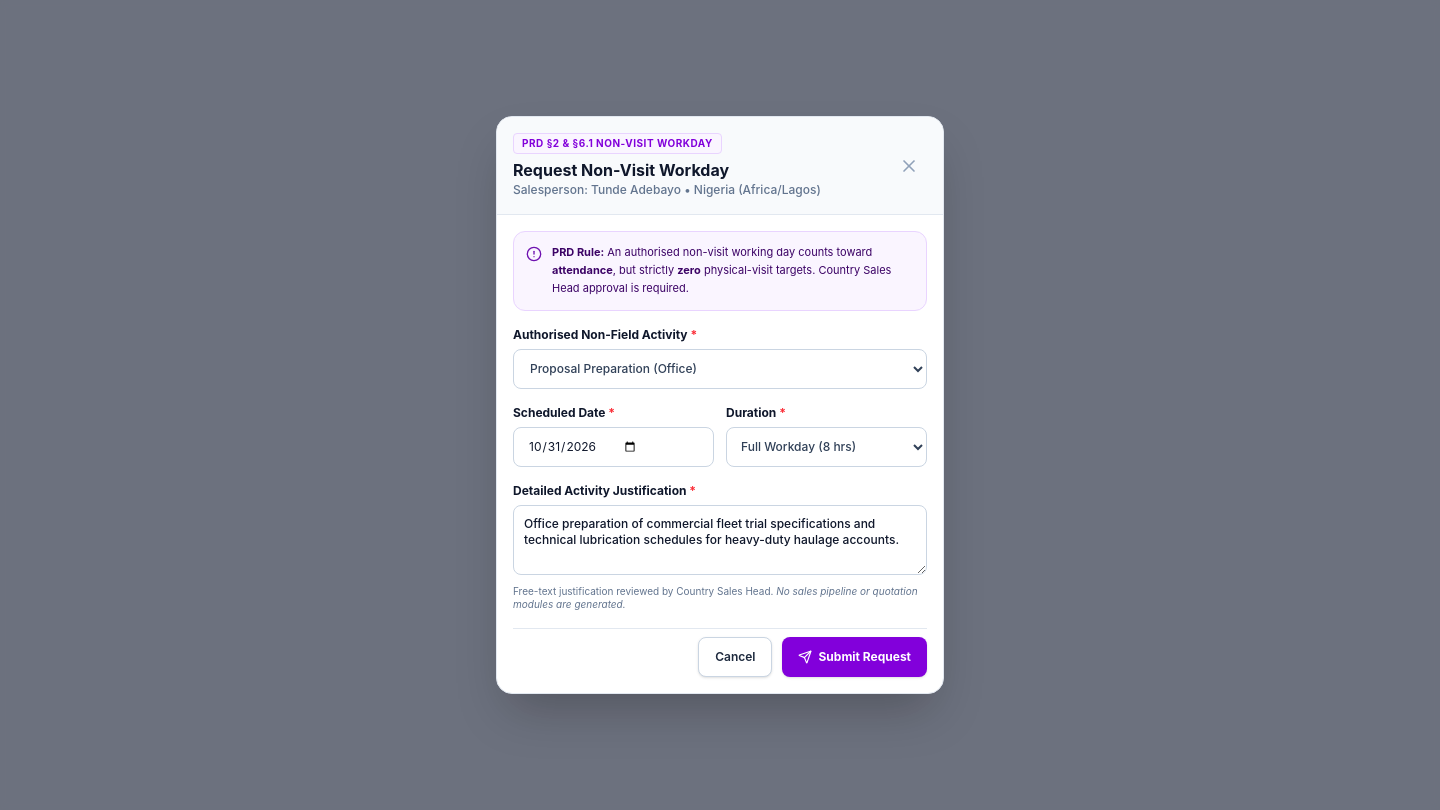
Test: Stage 3B: Real Attendance & Workday Management Tests › 5. Non-Visit Workday Authorization Lifecycle (PRD §2 & §6.1) › submits non-visit workday request with approved PRD category and justification
The image size is (1440, 810).
Expected: the text "PRD §2 & §6.1 Non-Visit Workday" is shown, [513, 133, 722, 154]
Note: Submit form
Click the button "Submit Request": (855, 657) [782, 637, 927, 677]
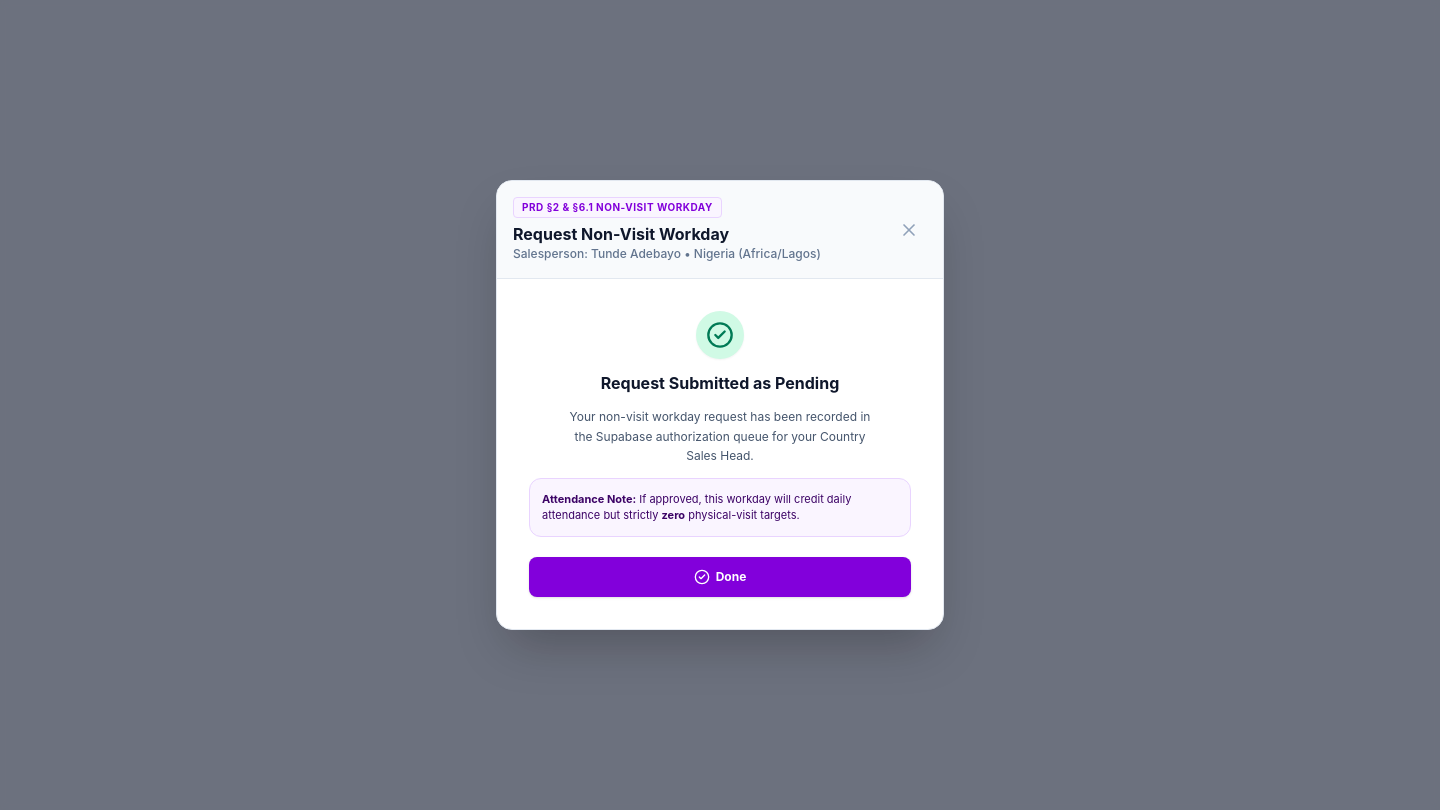
Expected: the text "physical-visit targets" is shown, [685, 508, 800, 522]
Now the heading "Request Submitted as Pending" is shown, box [601, 373, 839, 393]
Now the text "credit daily attendance" is shown, box [542, 492, 851, 522]
